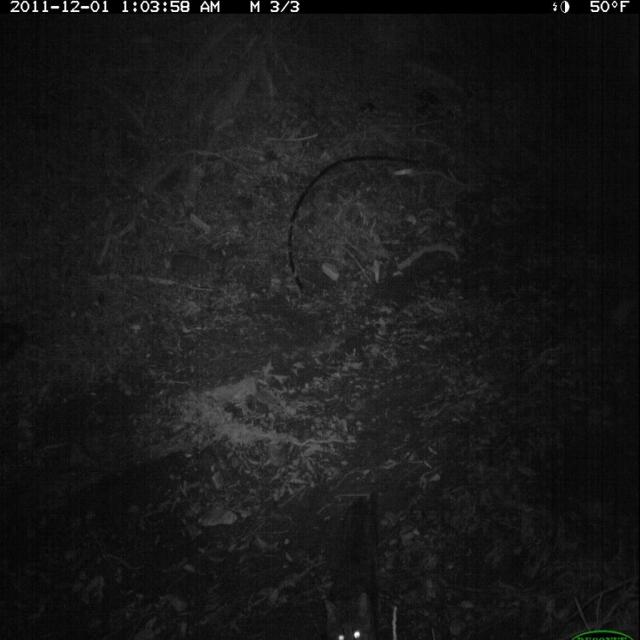cat: (315, 483, 389, 638)
